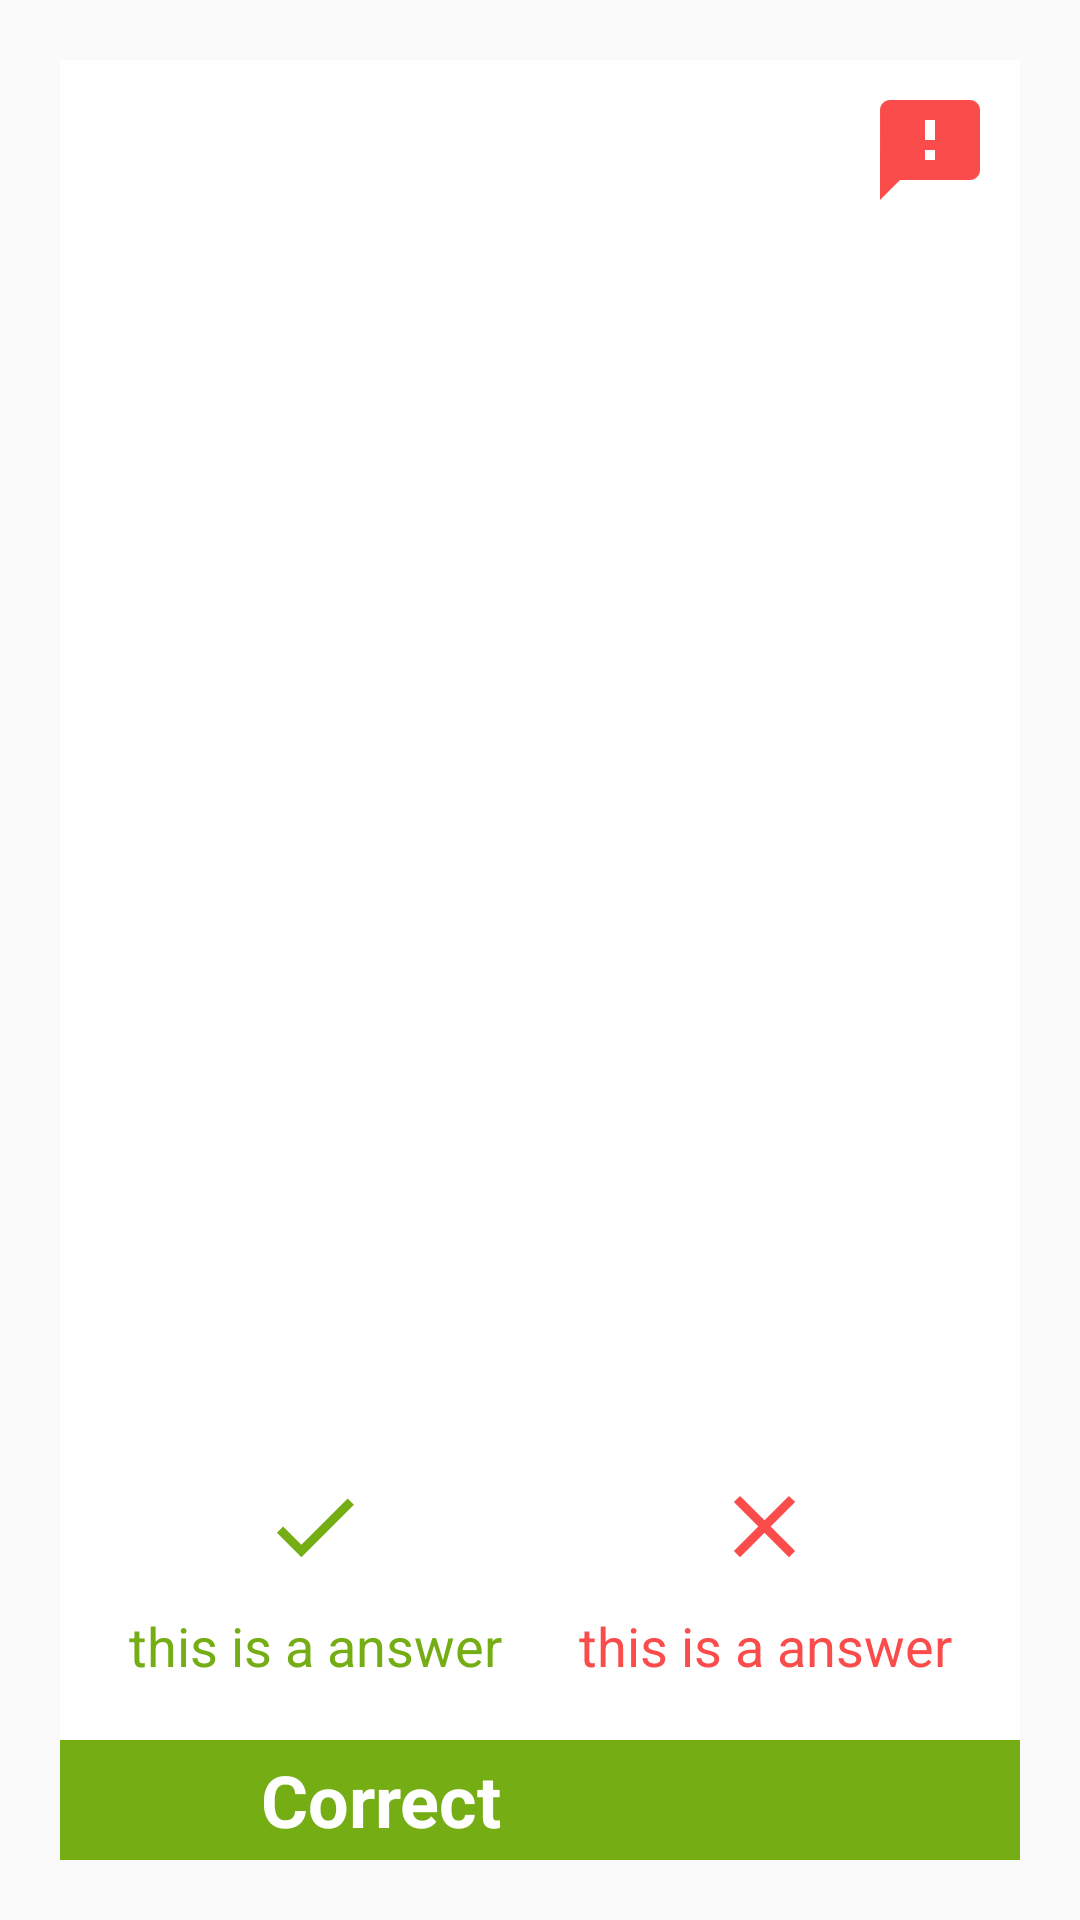

Icons on this 1080x1920 Android screen, each with the point to tap as [x,y]:
feedback: [930,150]
